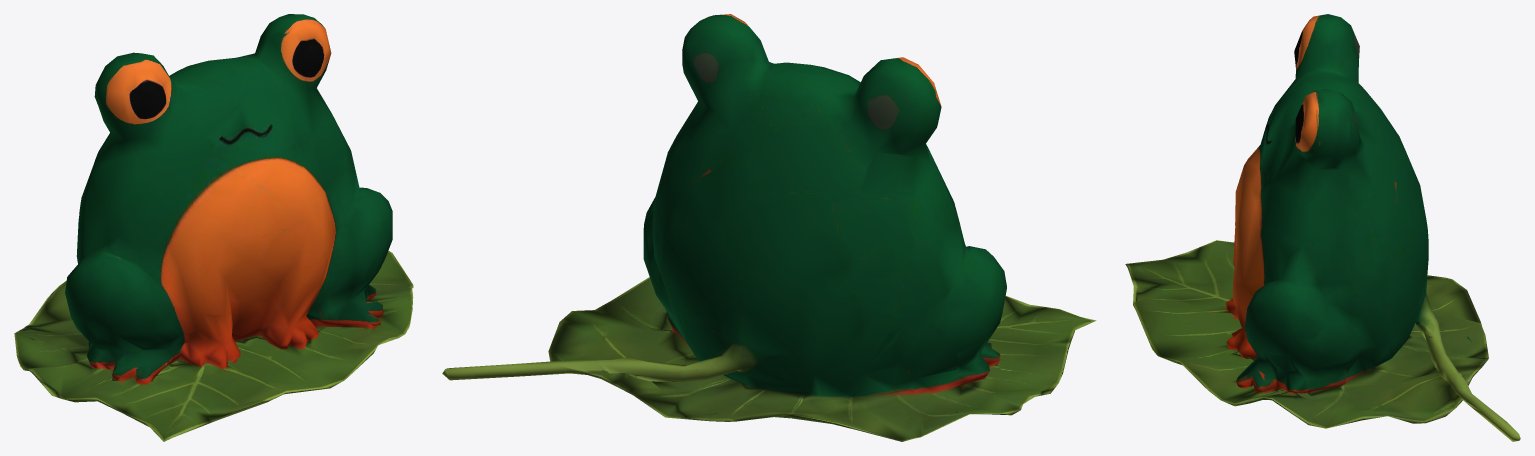
The model's file is grenouille.glb.
3 views of the same model, side by side, from view 1: azimuth 30°, elevation 25°; view 2: azimuth 150°, elevation 25°; view 3: azimuth 270°, elevation 25° (orthographic). The views are drawn at different scales.
Parts seen in each view (by area): view 1: mesh_node; view 2: mesh_node; view 3: mesh_node.
Boxes of the visible parts, bbox=[...] form: mesh_node: bbox=[14, 14, 413, 441]; mesh_node: bbox=[442, 14, 1096, 441]; mesh_node: bbox=[1125, 14, 1520, 441].
Size of the model in its own units: 1.9 by 1.26 by 1.59.
Materials: 1 (1 with a texture image).
